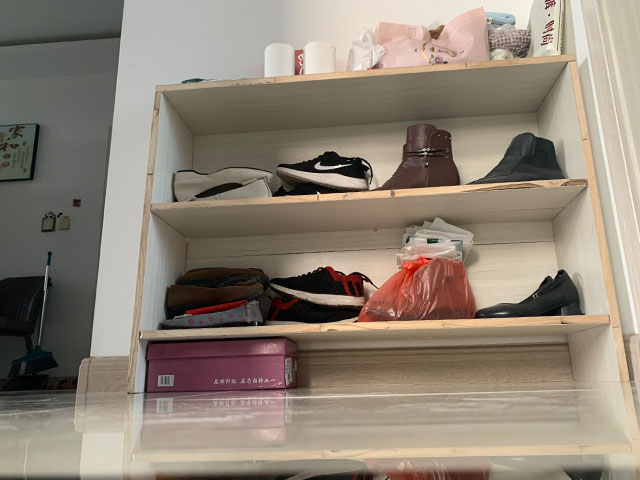cabinet: (124, 51, 627, 395)
